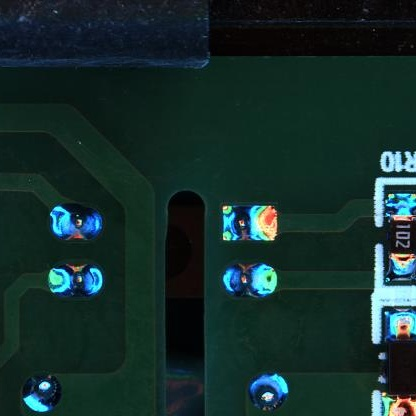spot: (48, 203, 107, 240), (219, 259, 276, 296), (47, 263, 104, 299), (223, 206, 276, 242), (248, 371, 290, 412), (20, 374, 63, 411)
